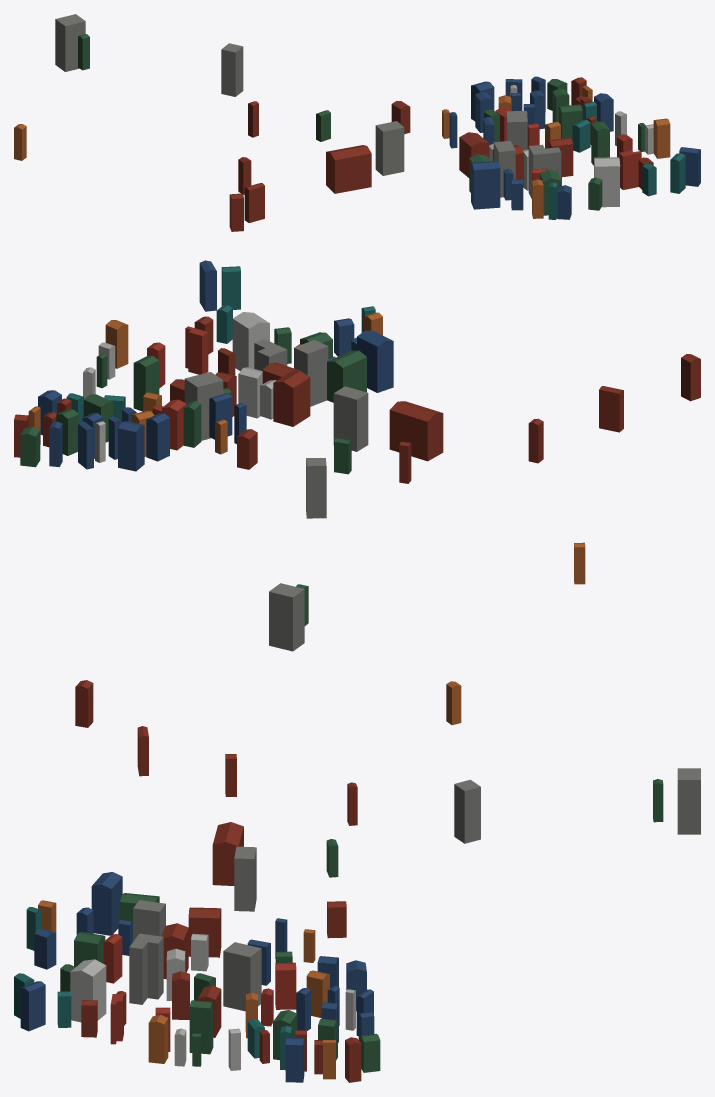
File: near-17-109440-59468.6dc37f71.glb
The picture shows the model from 3 angles, top to bottom: view 1: azimuth 30°, elevation 25°; view 2: azimuth 150°, elevation 25°; view 3: azimuth 270°, elevation 25°; orthographic projection. The views are drawn at different scales.
Size of the model in its own units: 277 by 55.96 by 262.
